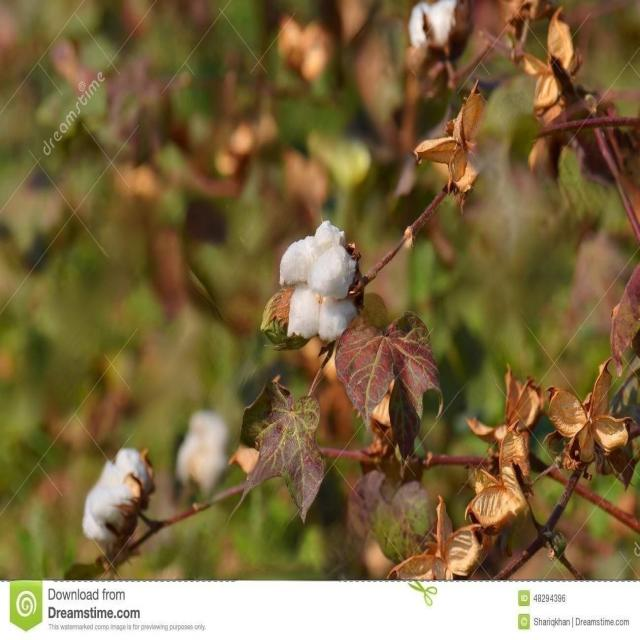Early_blight: (279, 222, 358, 337)
